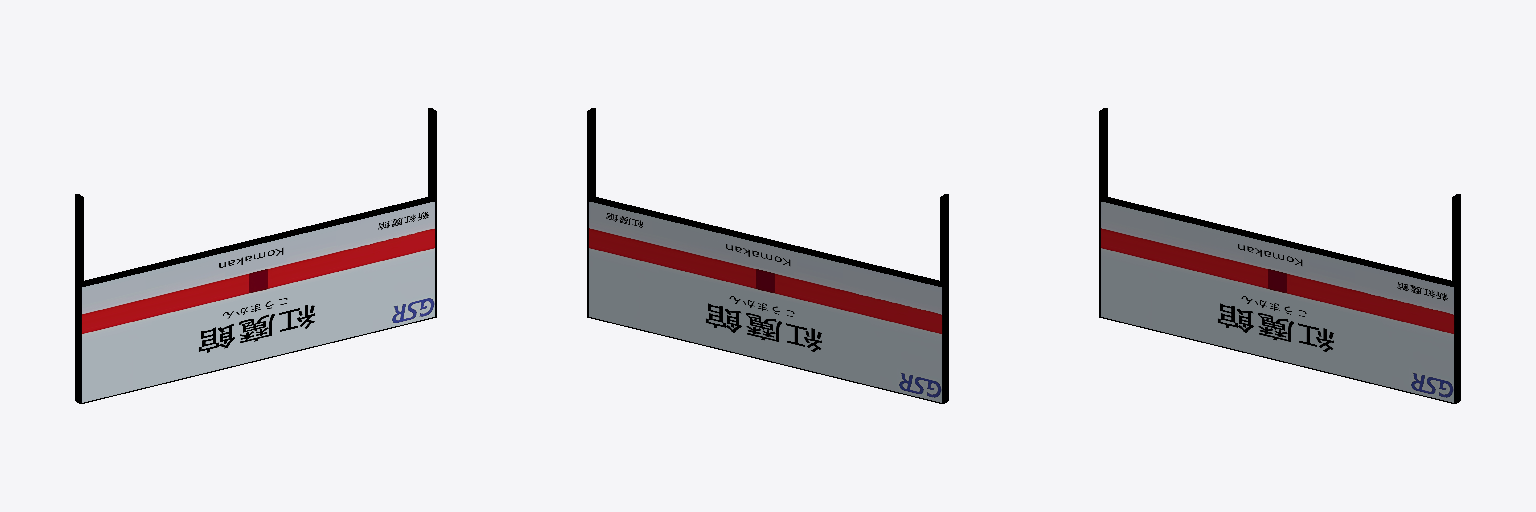
The picture shows the model from 3 angles: view 1: azimuth 30°, elevation 25°; view 2: azimuth 150°, elevation 25°; view 3: azimuth 330°, elevation 25°; orthographic projection.
Parts seen in each view (by area): view 1: obj1; view 2: obj1; view 3: obj1.
Part boxes in pixels (x1,y1,x2,y2): obj1: (75, 108, 436, 403); obj1: (587, 108, 948, 403); obj1: (1099, 108, 1460, 403).
Size of the model in its own units: 190 by 105 by 5.36.
26 materials, 2 textured.